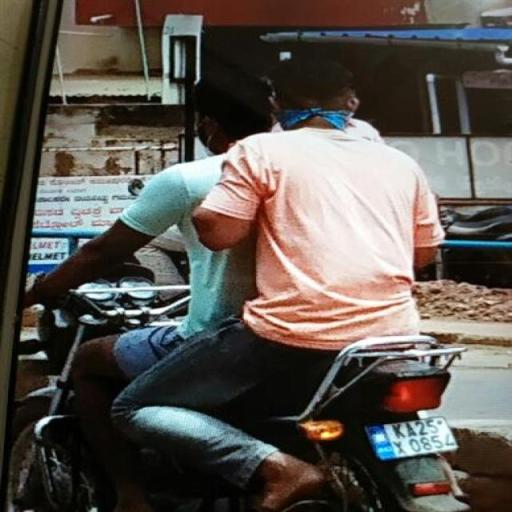tripple riding: (34, 50, 452, 346)
